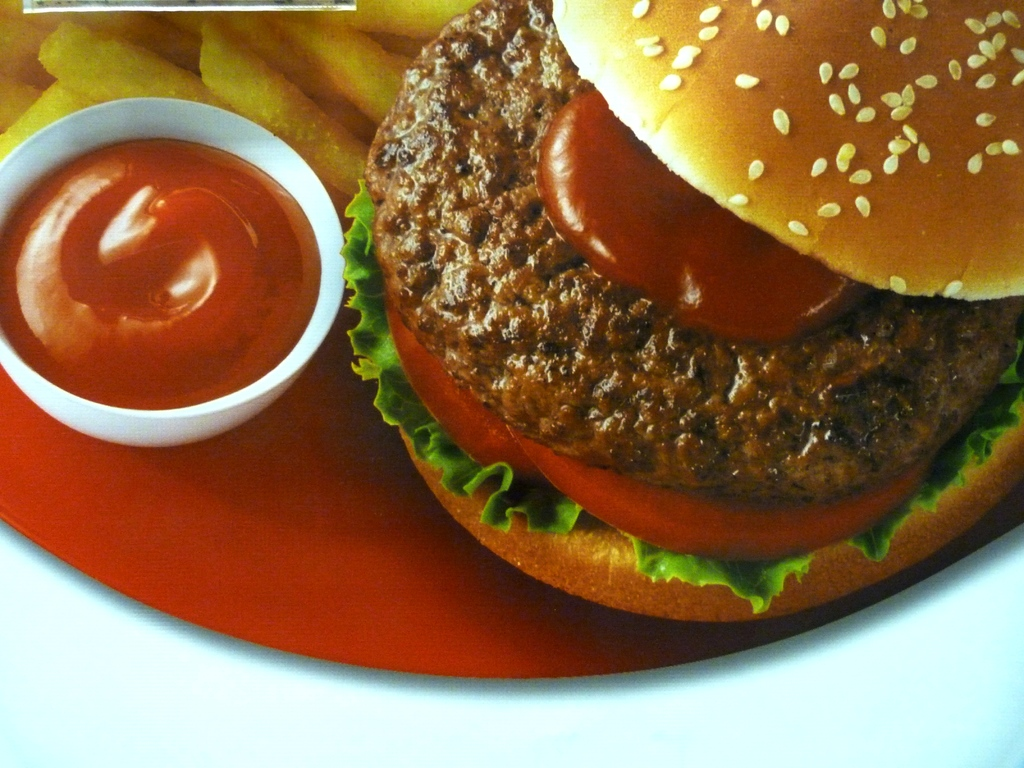Hamburger: (336, 0, 1023, 626)
